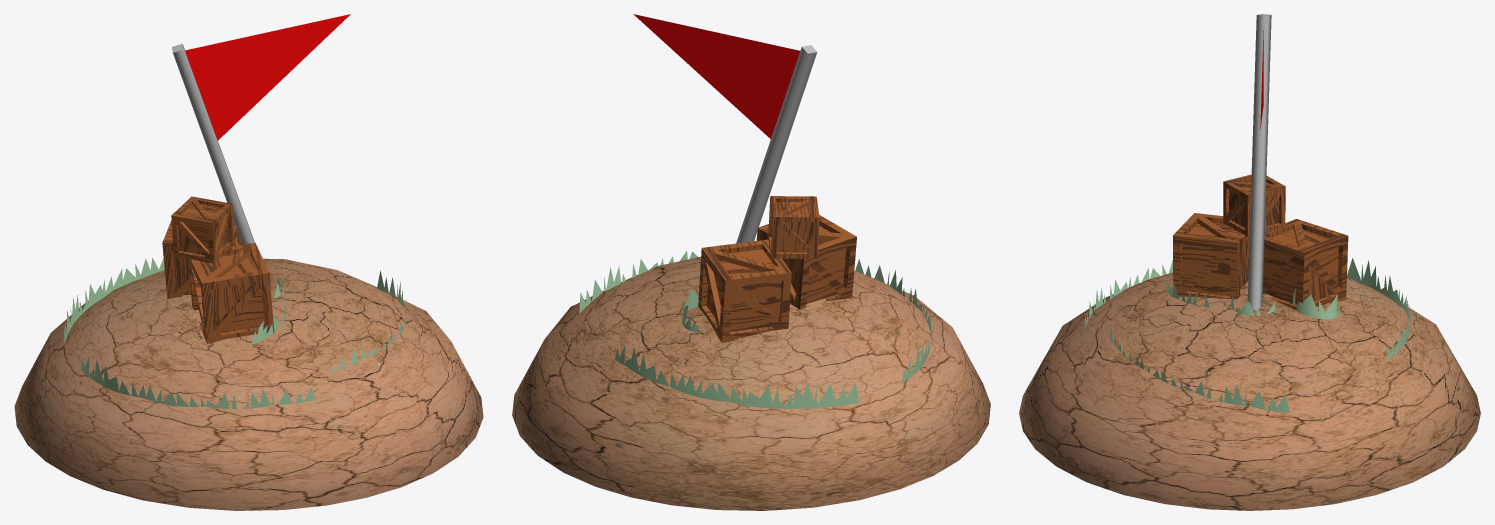
The model's file is pre_torretta.glb.
The picture shows the model from 3 angles, left to right: view 1: azimuth 30°, elevation 25°; view 2: azimuth 150°, elevation 25°; view 3: azimuth 270°, elevation 25°; orthographic projection. The views are drawn at different scales.
Parts seen in each view (by area): view 1: Livello_01; view 2: Livello_01; view 3: Livello_01.
Boxes of the visible parts, box(x1,y1,x2,y2) form: Livello_01: box(14, 14, 483, 510); Livello_01: box(512, 14, 990, 510); Livello_01: box(1019, 14, 1480, 510).
Bounding box in the file's own units: 5.56 × 4.91 × 5.56.
5 materials, 2 textured.
